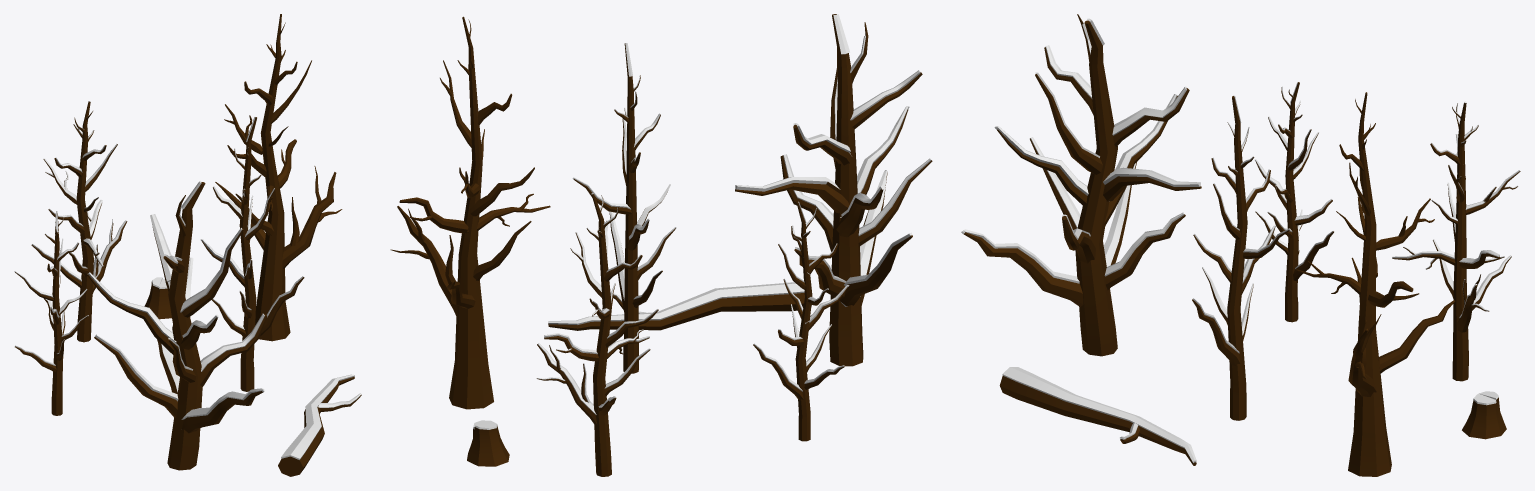
Rendered from deathtreemountain2_lev5.glb.
The picture shows the model from 3 angles, left to right: view 1: azimuth 30°, elevation 25°; view 2: azimuth 150°, elevation 25°; view 3: azimuth 270°, elevation 25°; orthographic projection. The views are drawn at different scales.
Visible parts, largest first — view 1: Dead_tree_1.004, Father_tree.004, Dead_tree_3.004, polySurface70.009, Dead_tree_2.004, Dead_branch.004, Tree_stump.004; view 2: Dead_tree_1.004, Father_tree.004, Dead_tree_3.004, polySurface70.009, Dead_tree_2.004, Dead_branch.004, Tree_stump.004; view 3: Dead_tree_1.004, Father_tree.004, polySurface70.009, Dead_tree_3.004, Dead_branch.004, Dead_tree_2.004, Tree_stump.004.
Boxes of the visible parts, bbox=[...] form: Dead_tree_1.004: bbox=[87, 180, 267, 470]; Father_tree.004: bbox=[215, 14, 342, 341]; Dead_tree_3.004: bbox=[31, 101, 127, 342]; polySurface70.009: bbox=[200, 116, 304, 391]; Dead_tree_2.004: bbox=[14, 211, 88, 415]; Dead_branch.004: bbox=[278, 374, 361, 476]; Tree_stump.004: bbox=[144, 277, 171, 319]; Dead_tree_1.004: bbox=[735, 14, 932, 366]; Father_tree.004: bbox=[390, 16, 550, 409]; Dead_tree_3.004: bbox=[536, 193, 658, 476]; polySurface70.009: bbox=[572, 43, 676, 373]; Dead_tree_2.004: bbox=[753, 201, 849, 441]; Dead_branch.004: bbox=[548, 282, 811, 330]; Tree_stump.004: bbox=[467, 420, 509, 466]; Dead_tree_1.004: bbox=[961, 14, 1201, 356]; Father_tree.004: bbox=[1296, 92, 1455, 476]; polySurface70.009: bbox=[1192, 95, 1290, 420]; Dead_tree_3.004: bbox=[1392, 101, 1520, 381]; Dead_branch.004: bbox=[999, 367, 1196, 465]; Dead_tree_2.004: bbox=[1255, 81, 1333, 322]; Tree_stump.004: bbox=[1462, 391, 1506, 439].
Bounding box in the file's own units: 26.25 × 22.65 × 30.06.
